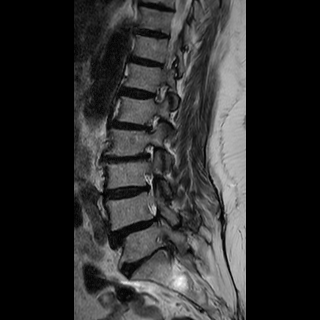LFS0: (140, 108, 166, 139), (136, 138, 160, 167)
